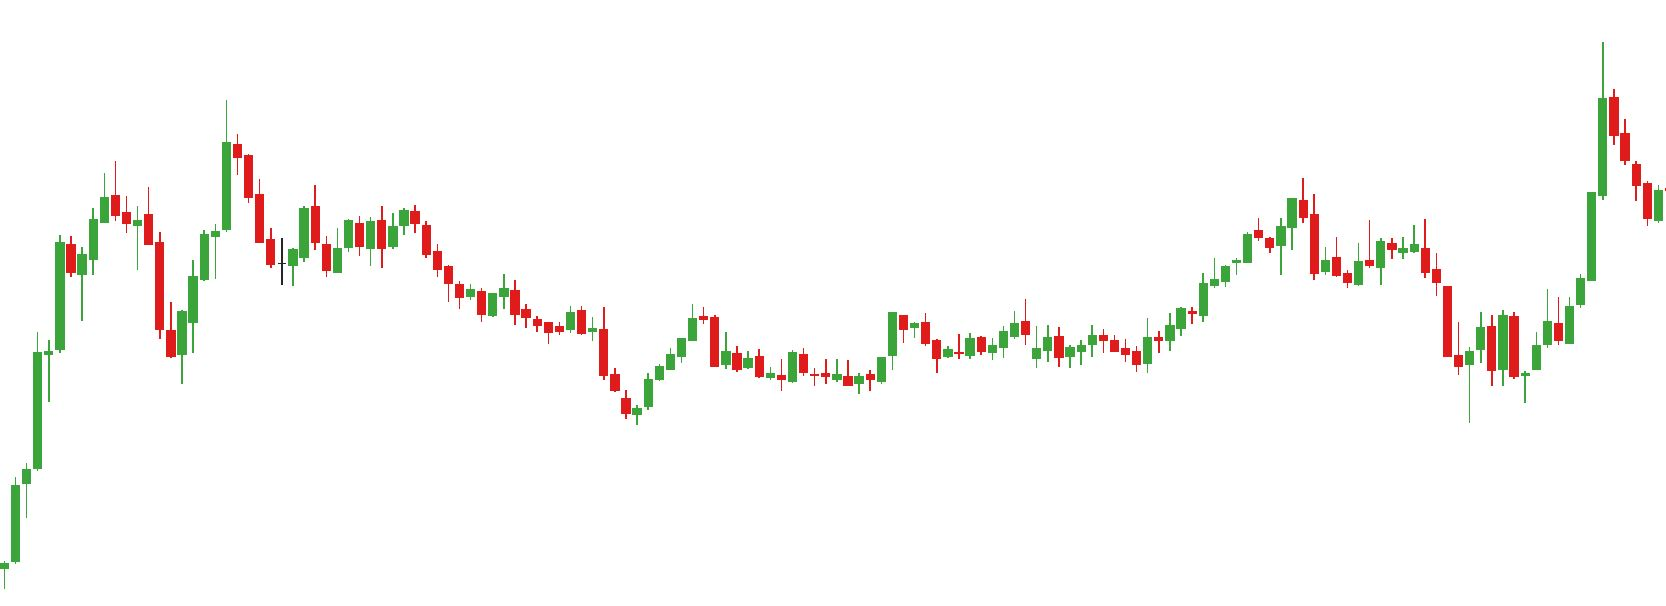sell: (95, 95, 245, 243)
